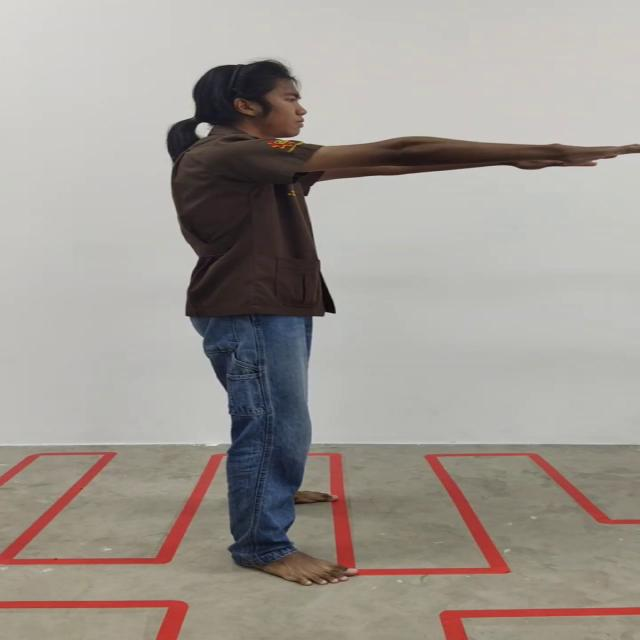stand: (167, 60, 630, 588)
